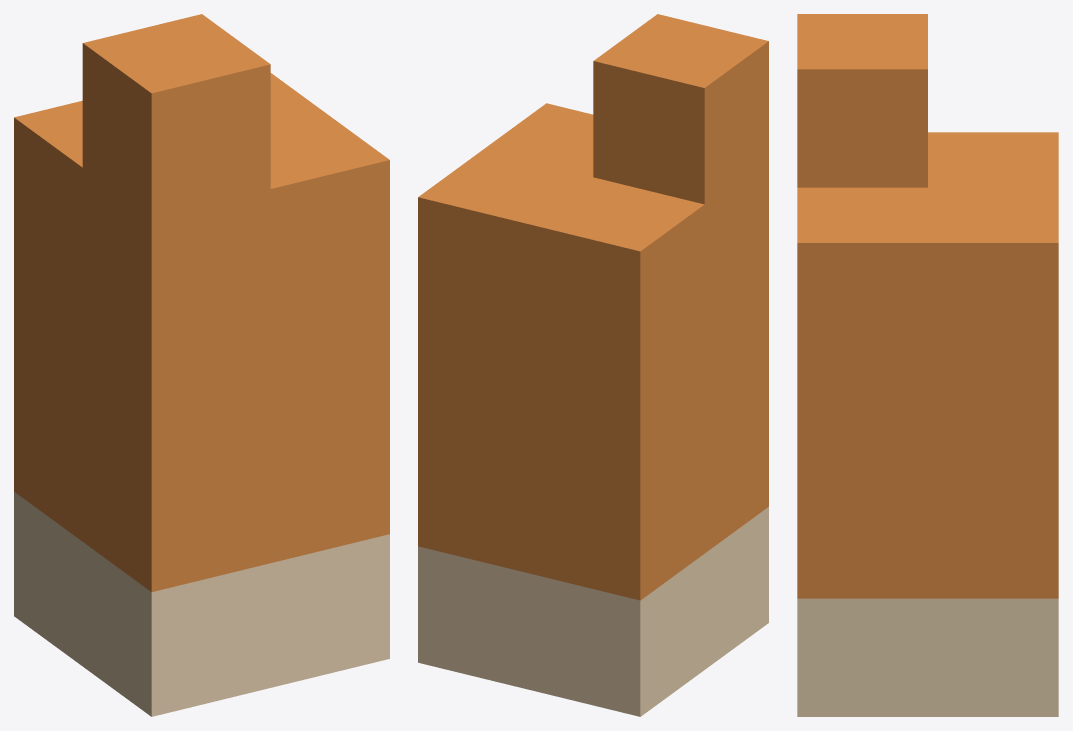
The model's file is cat__leg_fr.glb.
3 views of the same model, side by side, from view 1: azimuth 30°, elevation 25°; view 2: azimuth 150°, elevation 25°; view 3: azimuth 270°, elevation 25° (orthographic). The views are drawn at different scales.
Parts seen in each view (by area): view 1: cat__leg_fr; view 2: cat__leg_fr; view 3: cat__leg_fr.
Part boxes in pixels (x1=…): cat__leg_fr: x1=14, y1=14, x2=389, y2=716; cat__leg_fr: x1=418, y1=14, x2=768, y2=716; cat__leg_fr: x1=797, y1=14, x2=1058, y2=716.
Bounding box in the file's own units: 0.2 × 0.5 × 0.2.
Materials: 1 (1 with a texture image).
